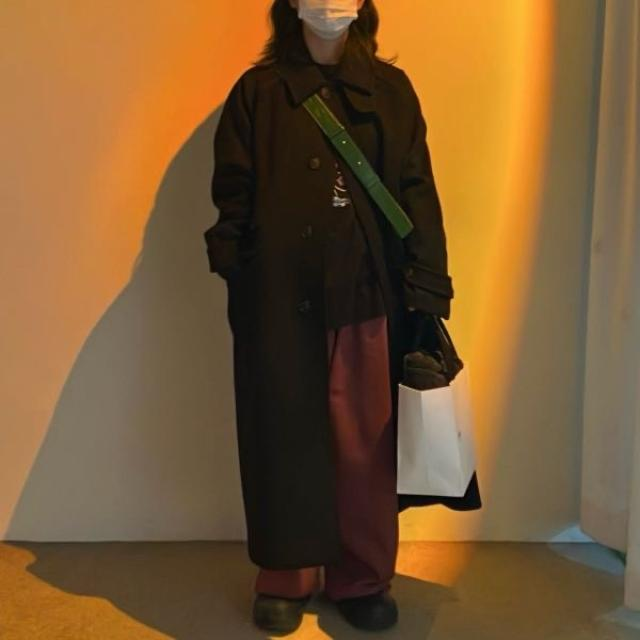coat: (205, 34, 454, 569)
cottonpants: (255, 308, 401, 598)
